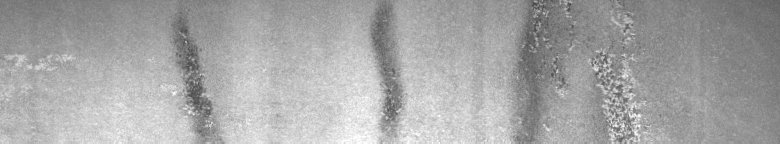hc: (520, 4, 644, 136)
